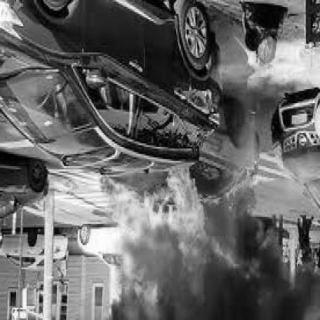Fire: (98, 163, 264, 319)
Smoke: (242, 259, 314, 317)
